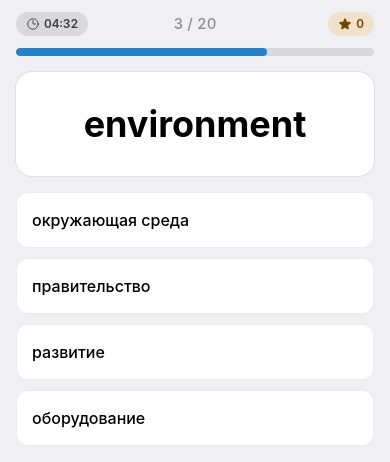
Test: ExamView › colours the options by the verdict, then moves on after 800 ms
What coordinates should you click on to do the following:
click the button with test id "option-2"
I would click on:
 (68, 352)
Its box is [16,324,374,380].
Wait 799 ms
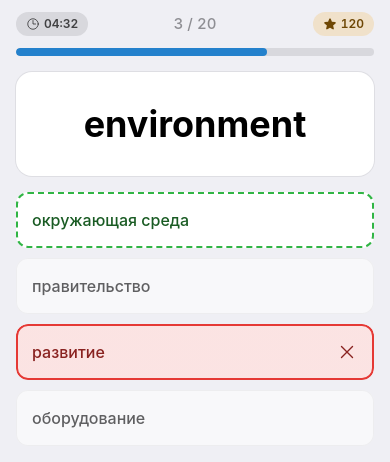
Expected: the heading with test id "word" reads "environment", [84,102,306,146]
Now the element with test id "score" reads "120", box [341,16,364,31]
What coordinates should you click on to do the following:
click the button with test id "option-1"
I would click on:
 (91, 286)
Its box is [16,258,374,314].
Wait 1 ms
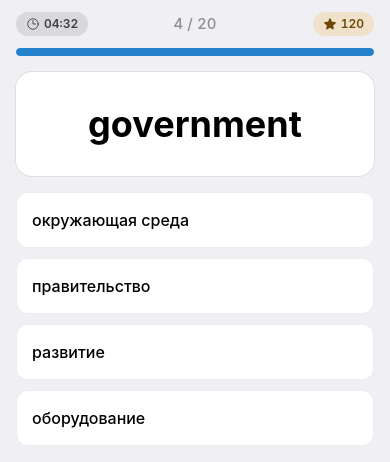
Now the heading with test id "word" reads "government", box [88,102,302,146]
Now the text with test id "progress" reads "4 / 20", box [174,14,216,33]
